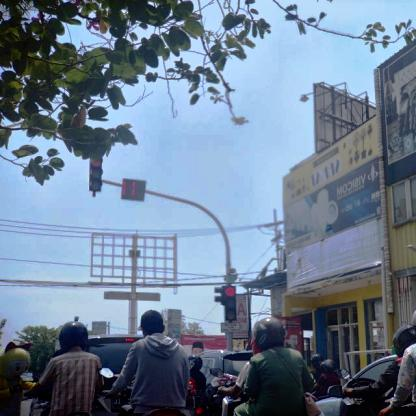Traffic Light -Red-: (87, 152, 103, 192), (224, 285, 238, 322)
